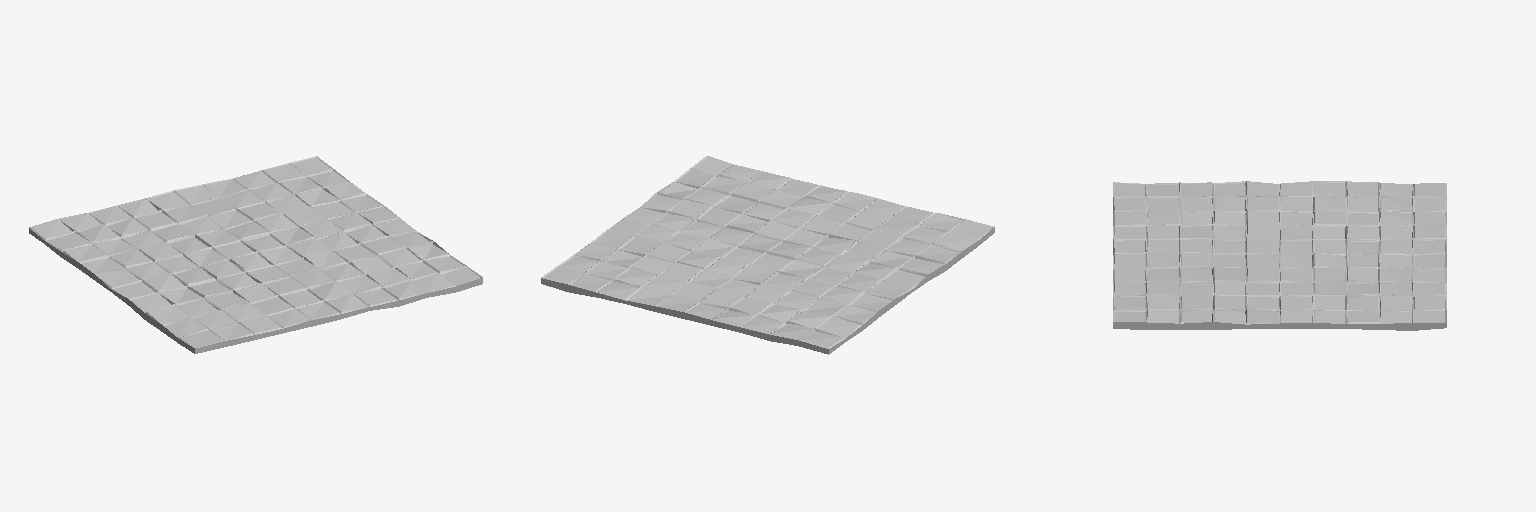
File: floor_10x10_01.obj
3 views of the same model, side by side, from view 1: azimuth 30°, elevation 25°; view 2: azimuth 150°, elevation 25°; view 3: azimuth 270°, elevation 25° (orthographic).
Parts seen in each view (by area): view 1: Cube; view 2: Cube; view 3: Cube.
Boxes of the visible parts, x1=… form: Cube: x1=29, y1=156, x2=482, y2=353; Cube: x1=541, y1=156, x2=994, y2=354; Cube: x1=1113, y1=181, x2=1446, y2=330.
Size of the model in its own units: 10 by 0.3052 by 10.